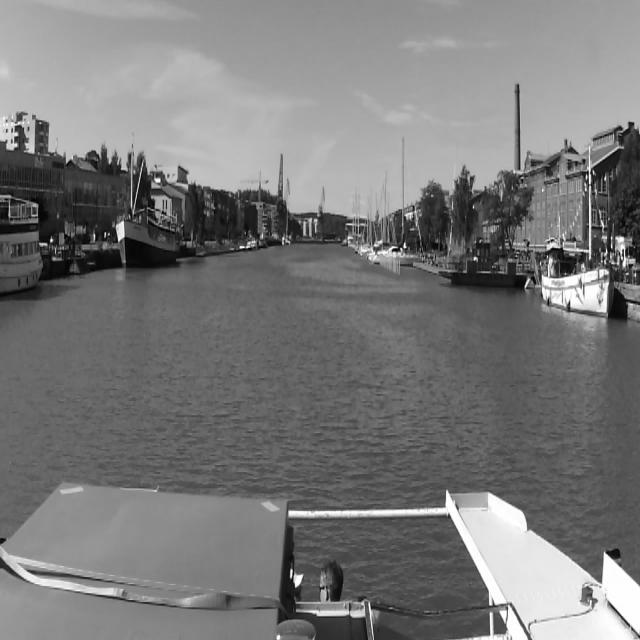ship: (539, 140, 620, 320), (112, 203, 180, 270), (0, 194, 42, 293), (438, 242, 532, 286)
